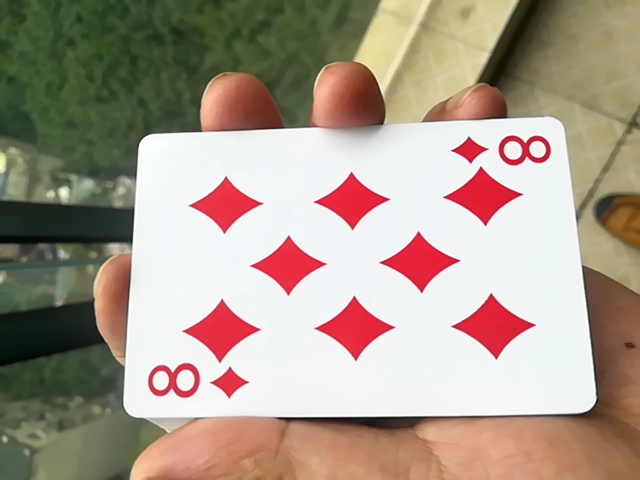fk 8: (107, 126, 583, 442)
